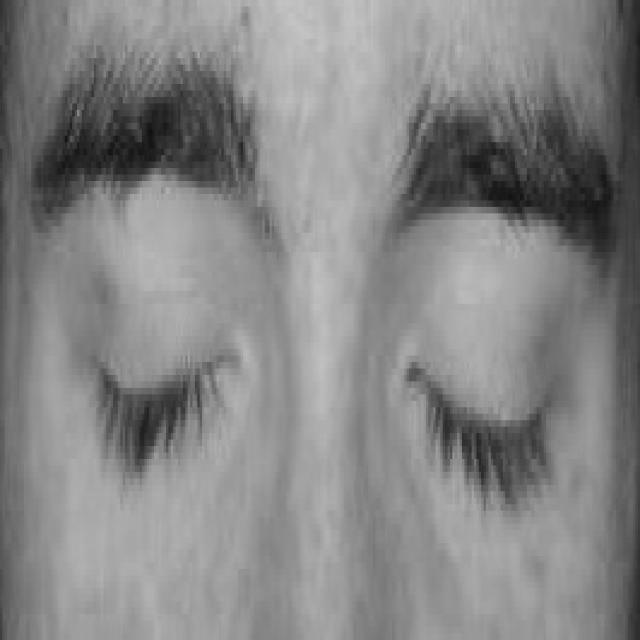real: (63, 170, 589, 550)
